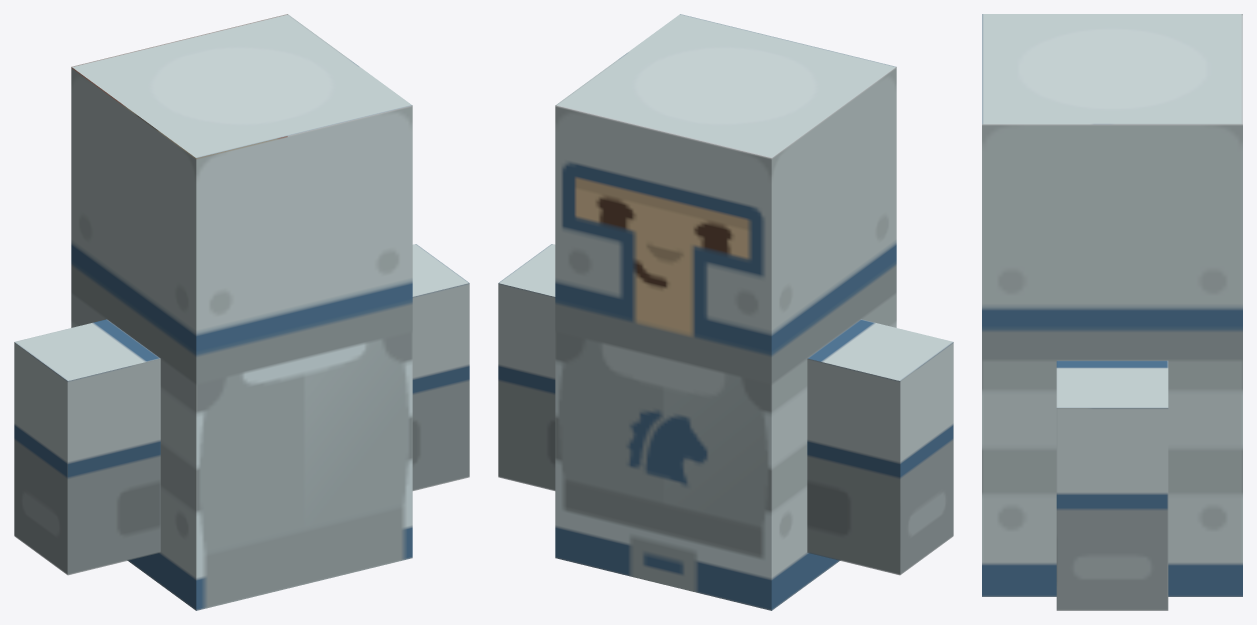
File: knightBlue.glb
The picture shows the model from 3 angles, left to right: view 1: azimuth 30°, elevation 25°; view 2: azimuth 150°, elevation 25°; view 3: azimuth 270°, elevation 25°; orthographic projection. The views are drawn at different scales.
Parts seen in each view (by area): view 1: head 1, knightBlue_8angles, left 1, right 1; view 2: head 1, knightBlue_8angles, left 1, right 1; view 3: head 1, knightBlue_8angles, right 1.
Part boxes in pixels (x1,y1,x2,y2): head 1: [71, 14, 412, 384]; knightBlue_8angles: [71, 293, 412, 610]; left 1: [14, 319, 160, 575]; right 1: [412, 244, 469, 490]; head 1: [555, 14, 896, 384]; knightBlue_8angles: [555, 293, 896, 610]; left 1: [807, 319, 953, 575]; right 1: [498, 244, 555, 490]; head 1: [982, 14, 1242, 360]; knightBlue_8angles: [982, 360, 1242, 596]; right 1: [1056, 360, 1168, 610].
Bounding box in the file's own units: 4.83 × 5.2 × 2.6.
Materials: 2 (2 with a texture image).
